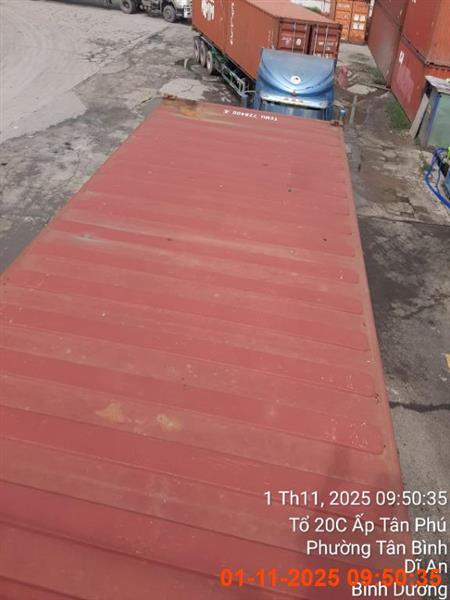hole: (1, 0, 446, 595), (1, 84, 424, 598), (140, 0, 192, 23)
